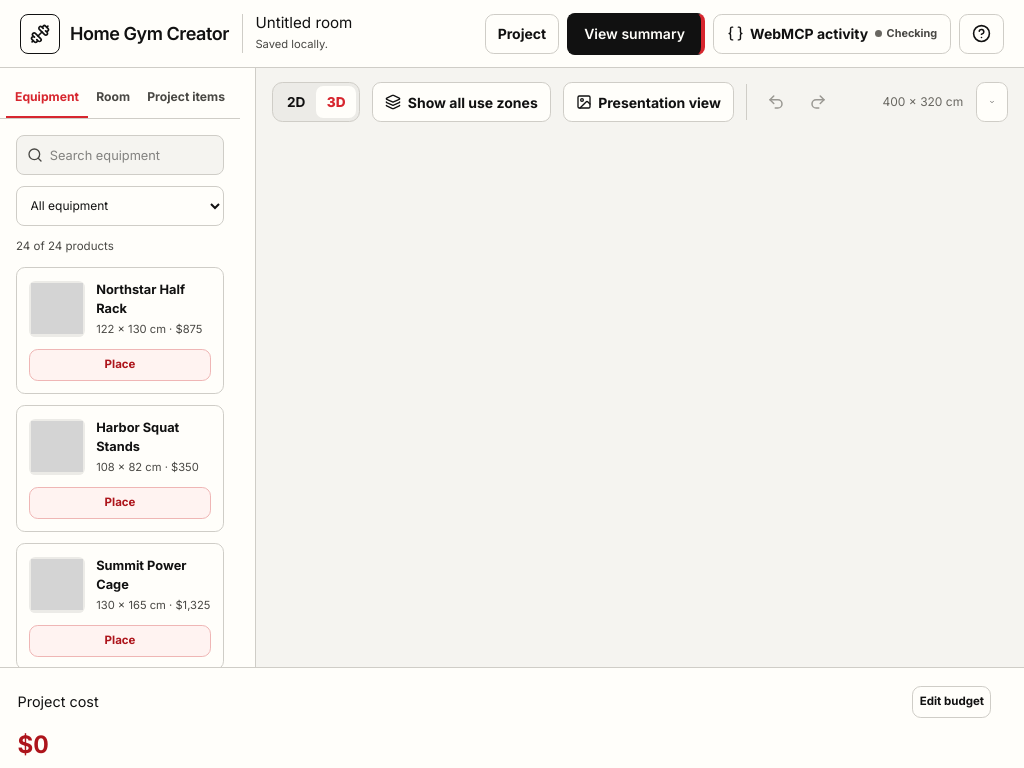
ProjectPersistenceBoundary › restores a saved project as revision-zero baseline without an initialization write
Expected: the text "Saved locally." is shown, 255,37 -> 328,51
Expected: the button named "Undo" is disabled, 758,84 -> 794,120
Click the button "Edit budget" at (952, 702), box 912,686 -> 991,718
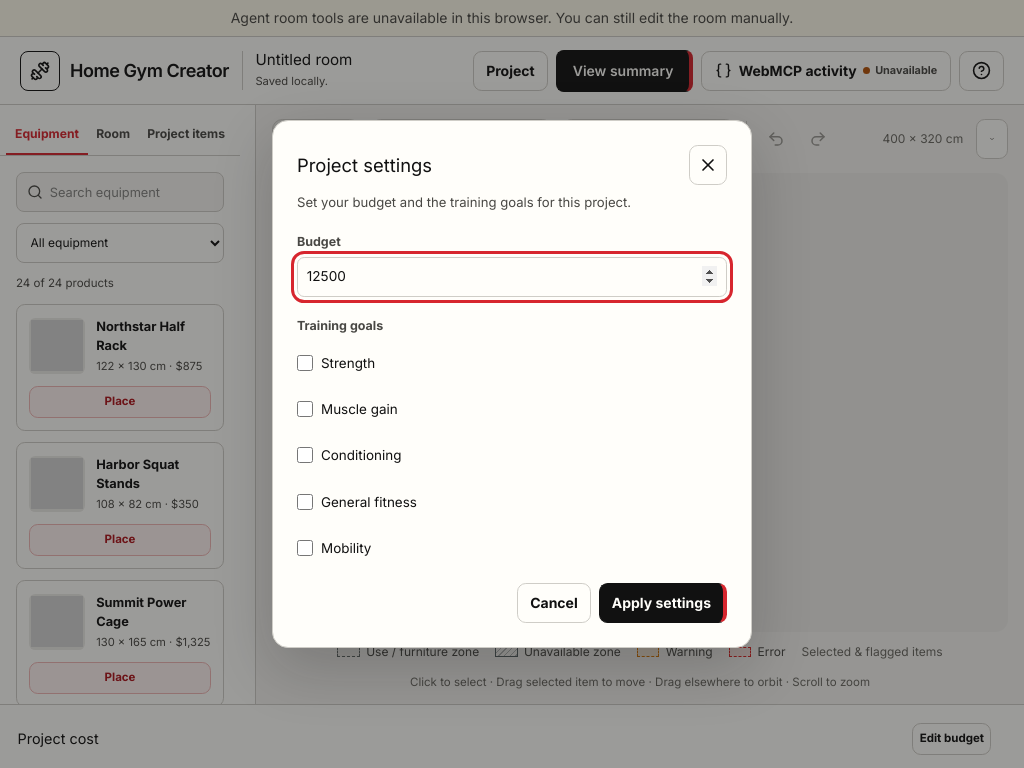
Expected: the number field labelled "Budget" holds "12500", 297,257 -> 727,297
